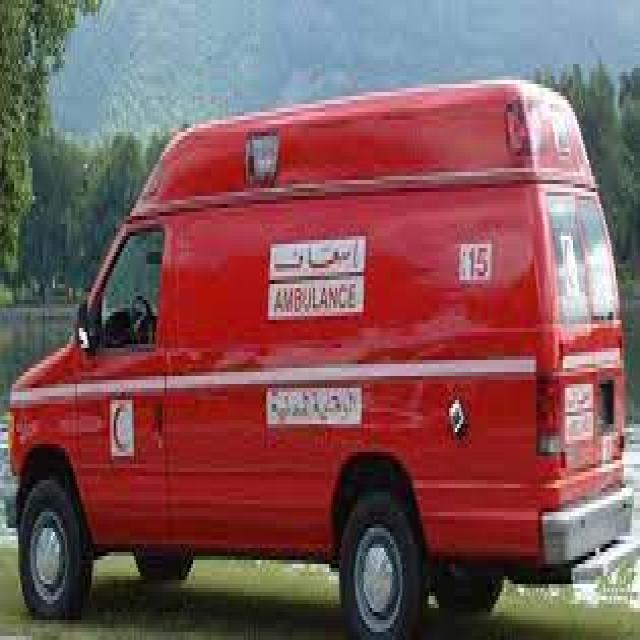ambulance: (9, 98, 633, 625)
